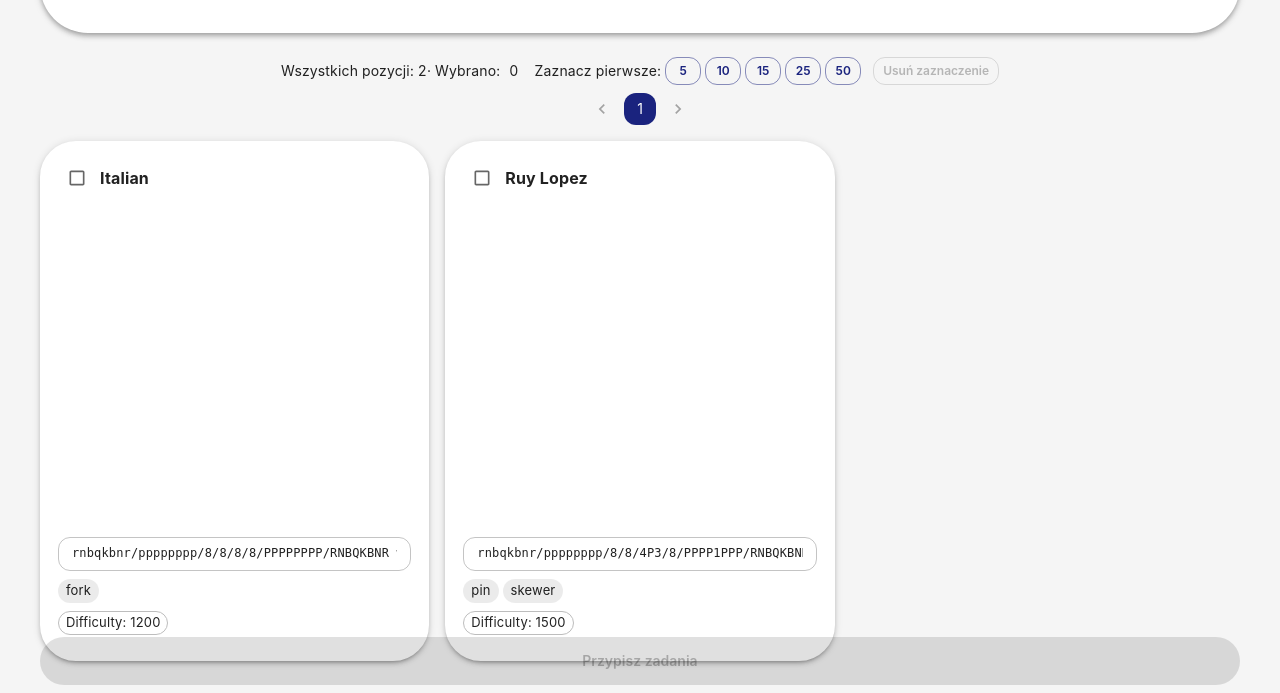
PositionsView feature › toggle selection adds/removes position
(page scrolled)
Expected: the text "Italian" is shown, top-left (100, 168), bottom-right (149, 188)
Click the text "Italian": (235, 401) top-left (40, 141), bottom-right (429, 661)
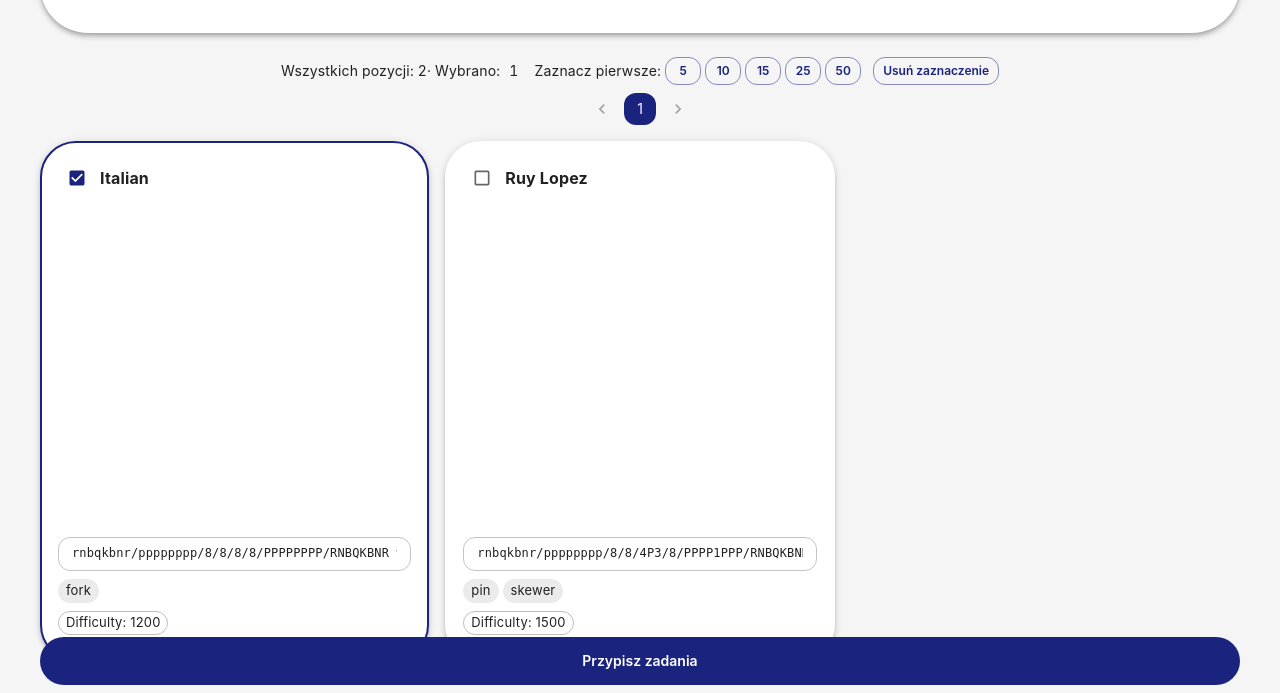
Expected: the text "Wszystkich pozycji: 2· Wybrano: 1" is shown, top-left (281, 61), bottom-right (518, 81)
Click the text "Italian": (235, 401) top-left (40, 141), bottom-right (429, 661)
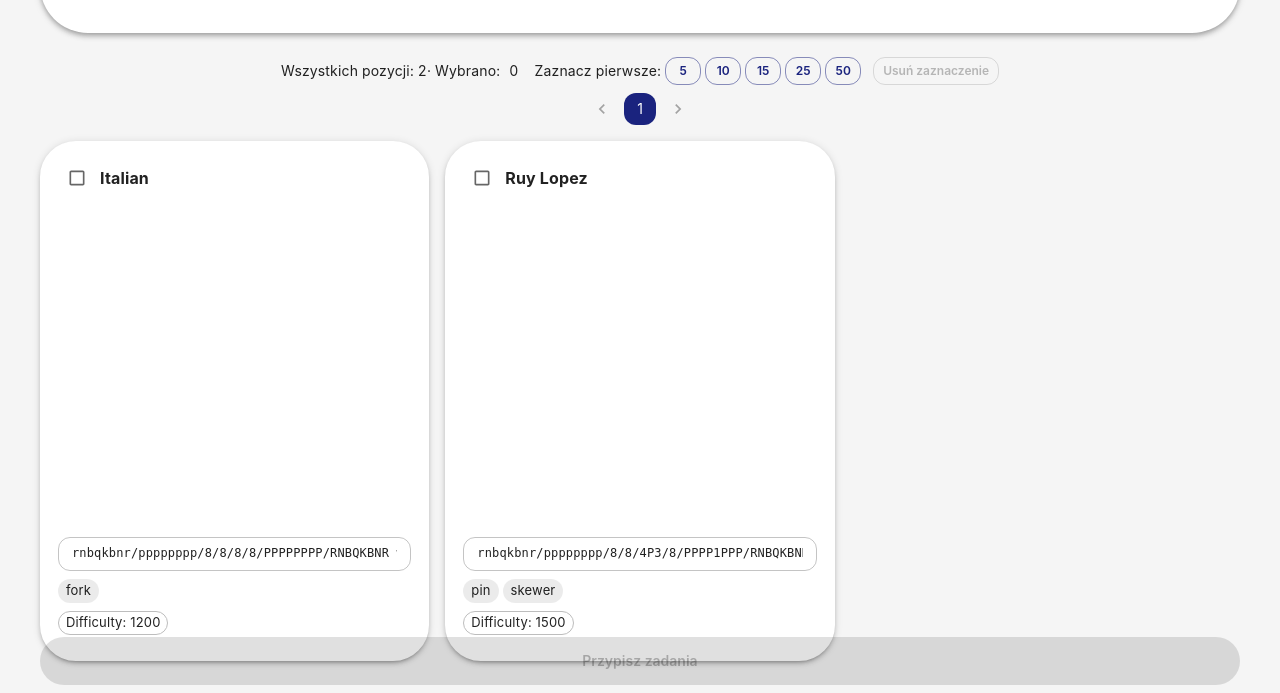
Expected: the text "Wszystkich pozycji: 2· Wybrano: 0" is shown, top-left (281, 61), bottom-right (518, 81)
